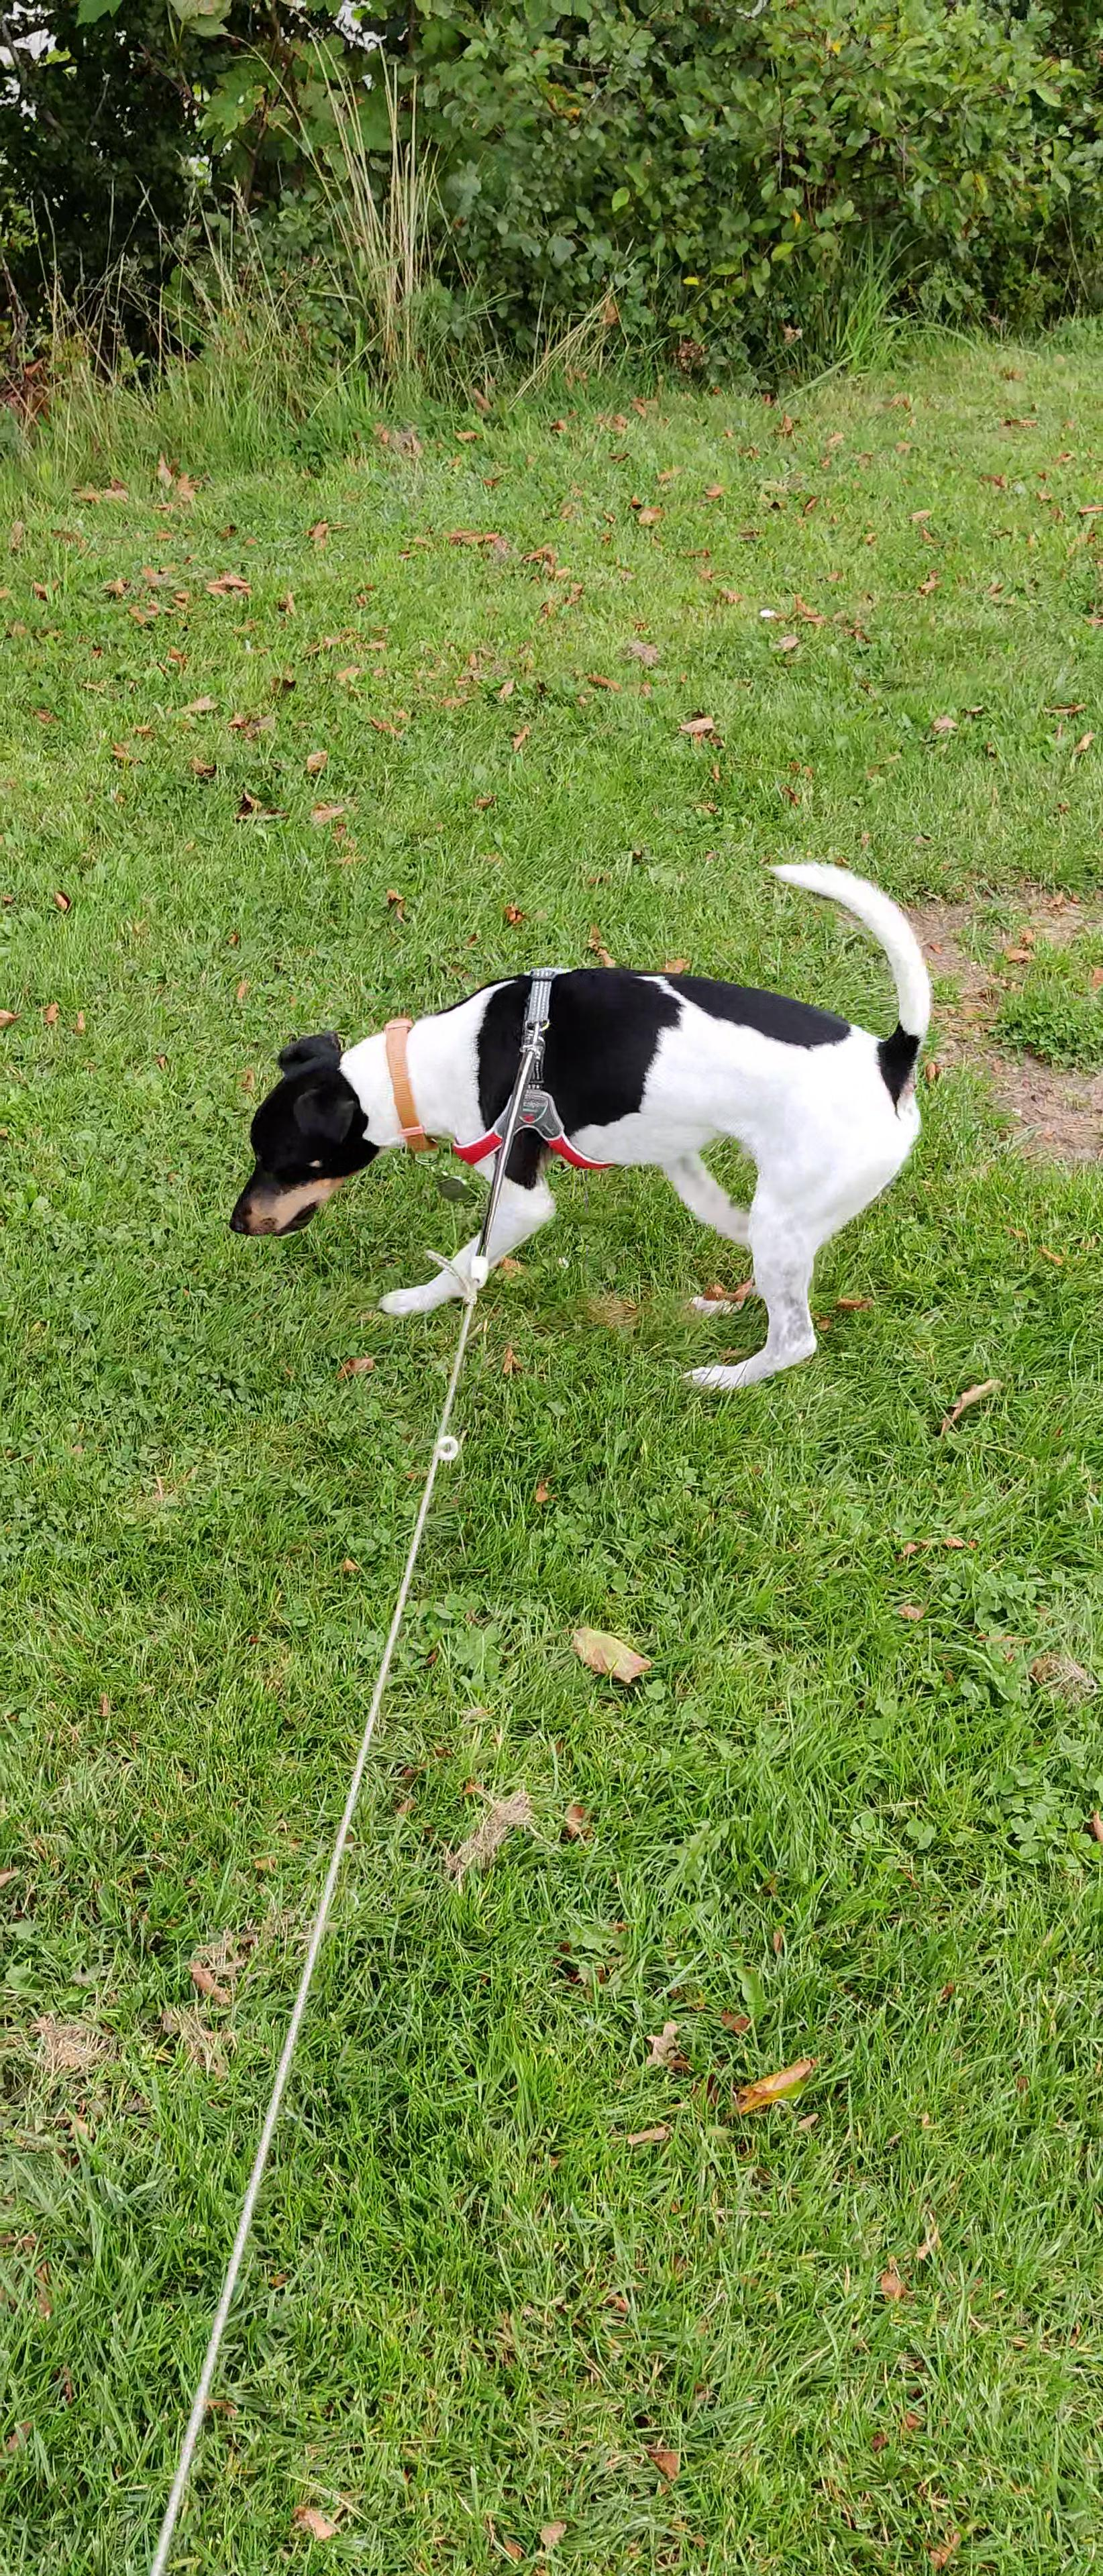Dog: (222, 856, 934, 1391)
